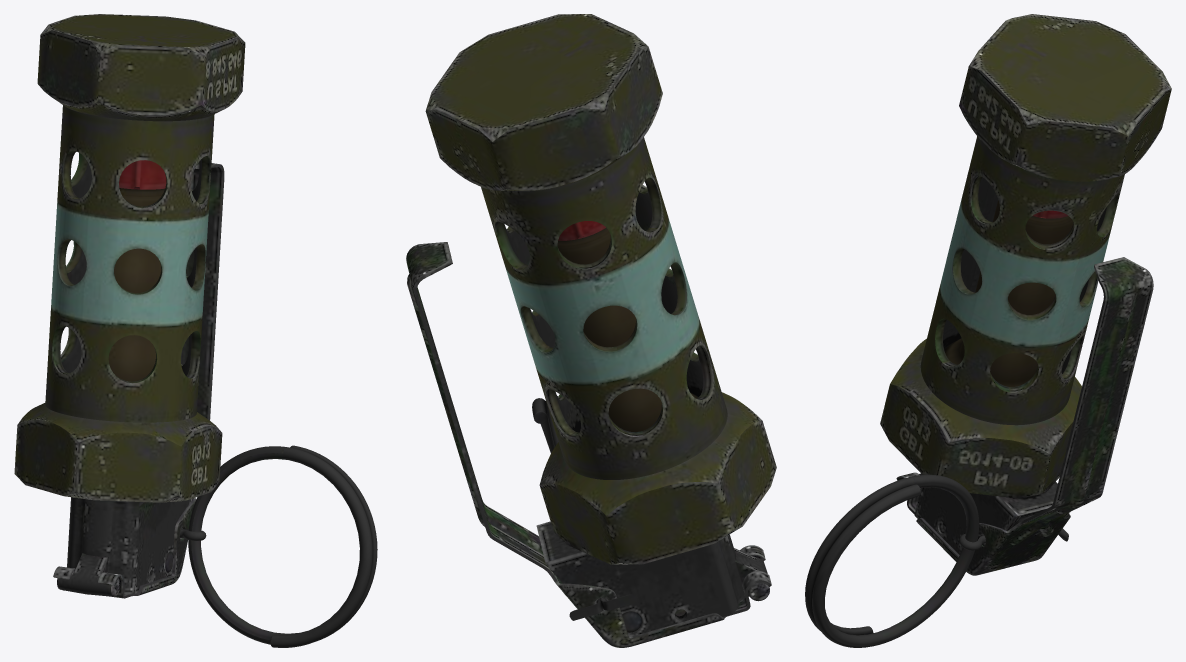
Rendered from p_flashbang.glb.
3 renders of one model, left to right at view 1: azimuth 30°, elevation 25°; view 2: azimuth 150°, elevation 25°; view 3: azimuth 270°, elevation 25°, orthographic. The views are drawn at different scales.
Visible parts, largest first — view 1: p_flashbang; view 2: p_flashbang; view 3: p_flashbang.
Part boxes in pixels (x1=…): p_flashbang: x1=14, y1=14, x2=377, y2=647; p_flashbang: x1=406, y1=14, x2=776, y2=647; p_flashbang: x1=805, y1=14, x2=1171, y2=647.
Size of the model in its own units: 0.1028 by 0.2146 by 0.1233.
Materials: 1 (1 with a texture image).
